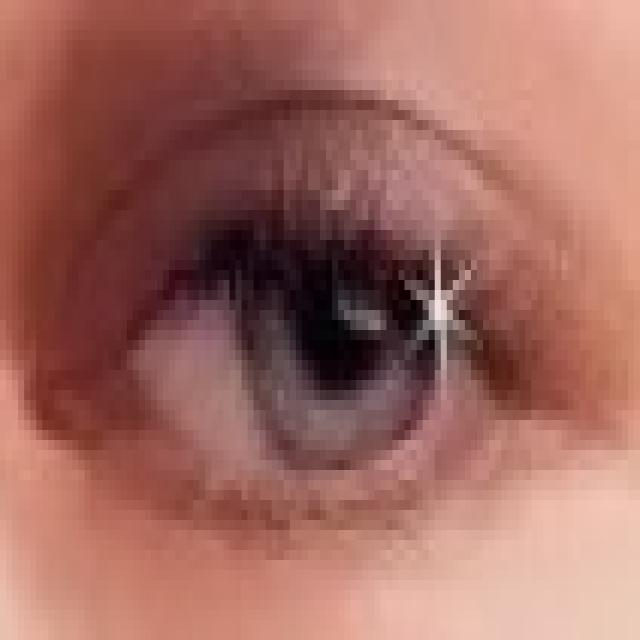Normal: (244, 172, 439, 483)
